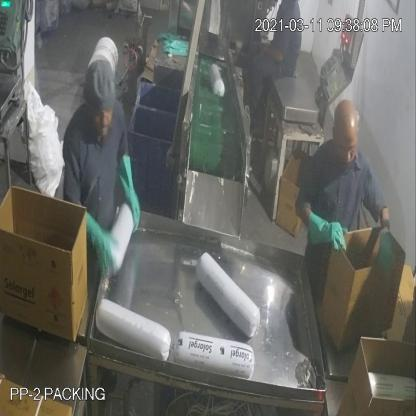glove: (74, 199, 116, 278), (304, 202, 348, 262), (118, 147, 143, 244), (377, 211, 397, 285)
no_glove: (259, 32, 290, 70)
